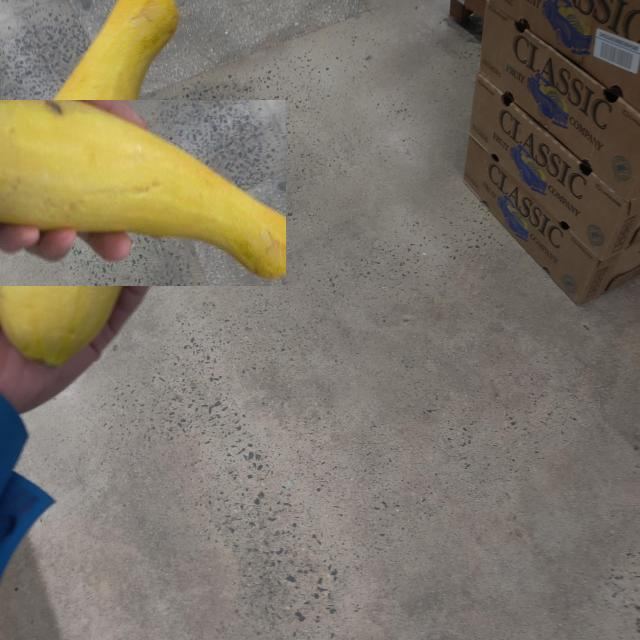Squash: (0, 100, 286, 286)
